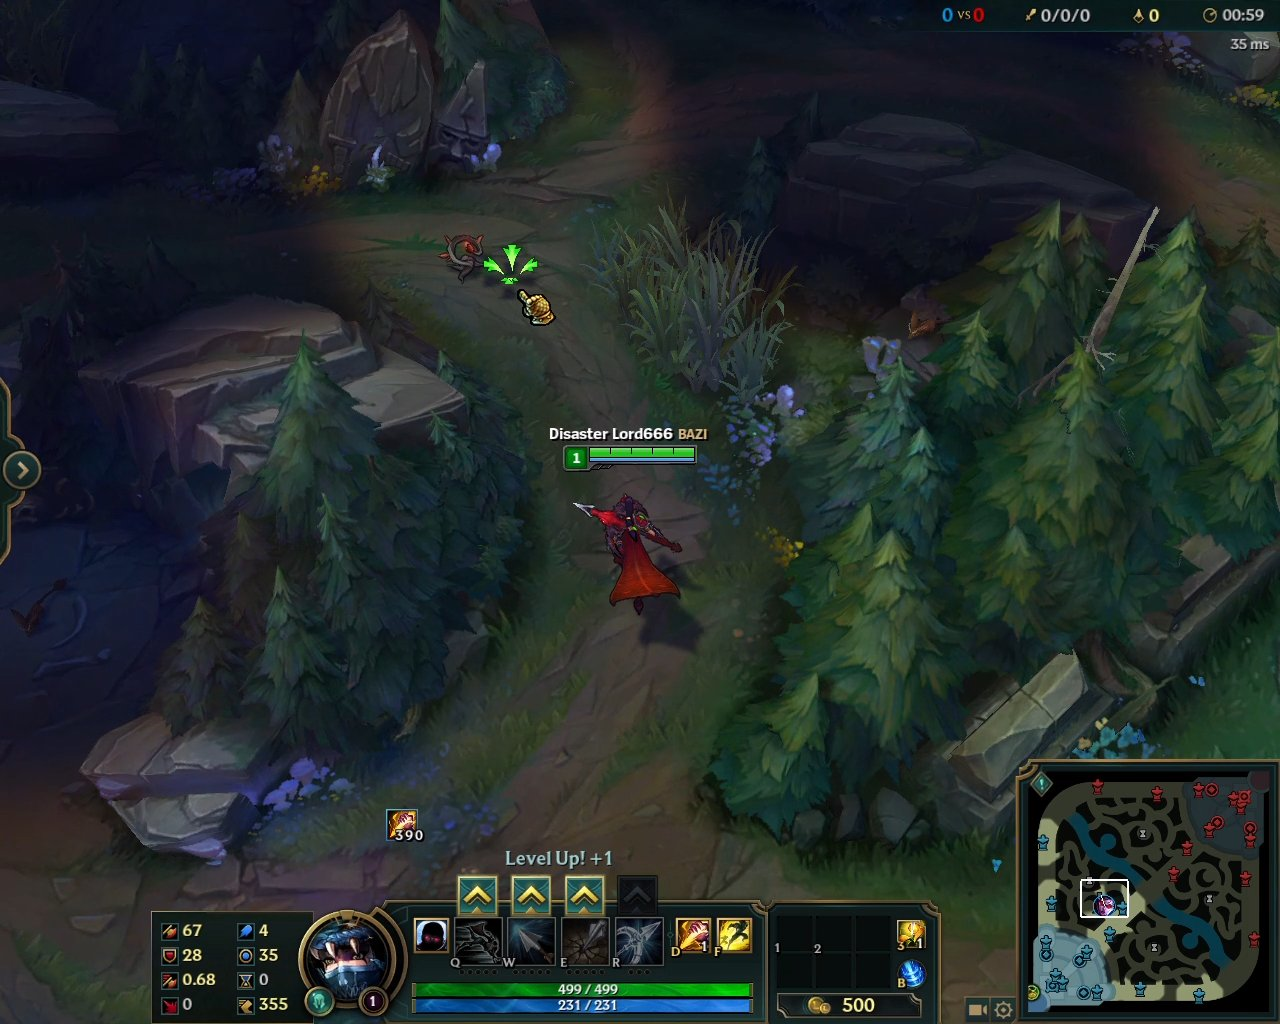Vayne: (560, 491, 692, 616)
